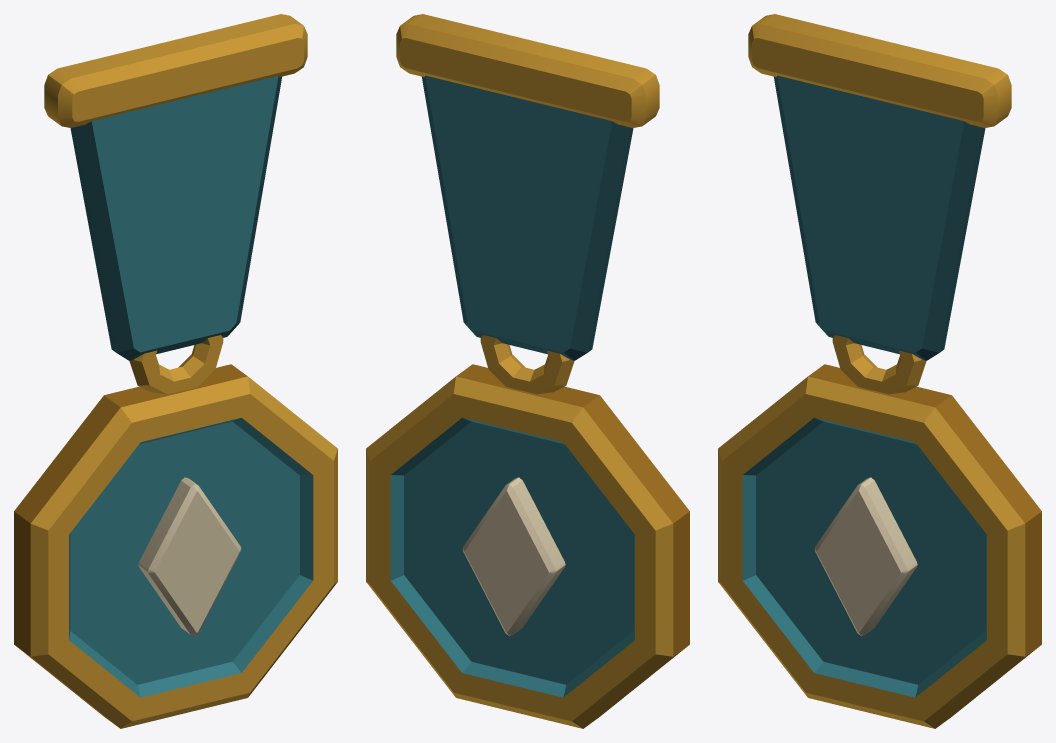
File: Medal_18.glb
The picture shows the model from 3 angles, left to right: view 1: azimuth 30°, elevation 25°; view 2: azimuth 150°, elevation 25°; view 3: azimuth 330°, elevation 25°; orthographic projection.
Parts seen in each view (by area): view 1: Medal_18; view 2: Medal_18; view 3: Medal_18.
Boxes of the visible parts, x1,y1,x2,y2 form: Medal_18: (14,14,337,728); Medal_18: (366,14,689,728); Medal_18: (718,14,1041,728).
Bounding box in the file's own units: 1.17 × 2.4 × 0.28.
